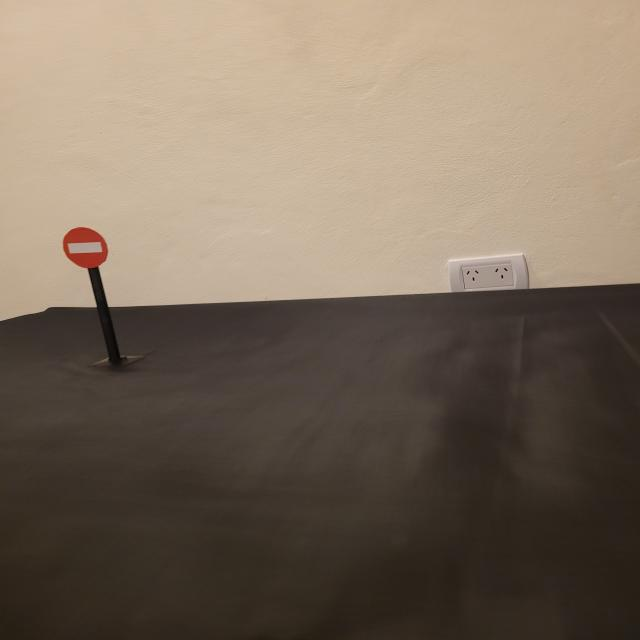no_entry: (61, 227, 110, 270)
